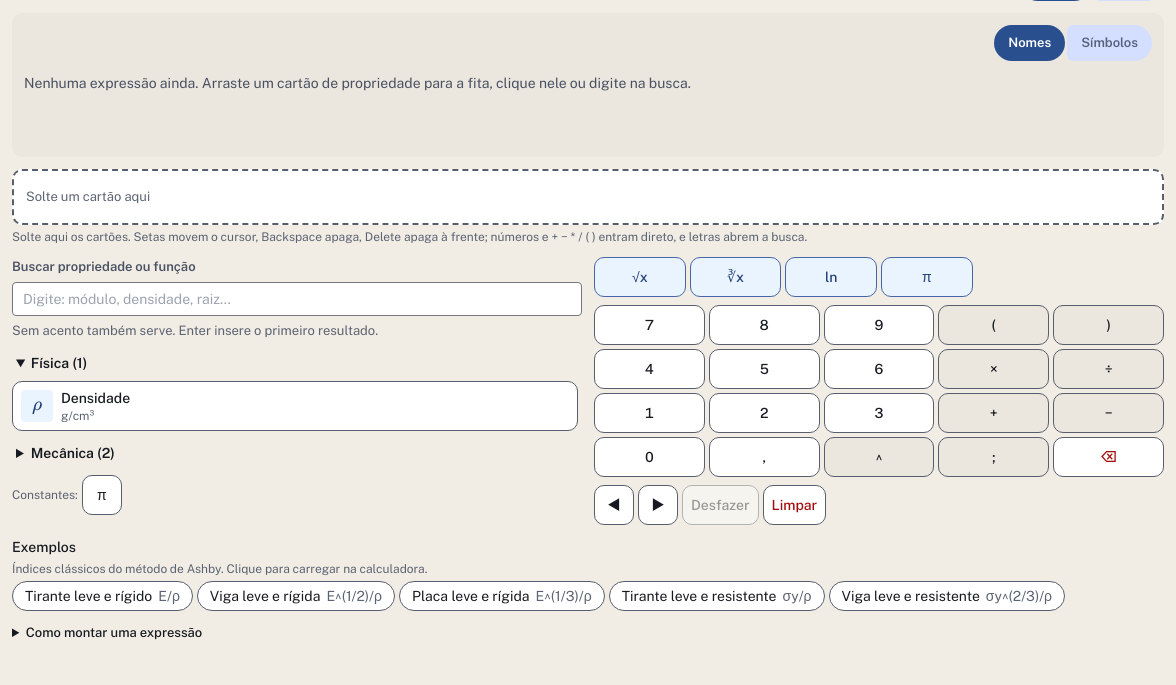
Scenario: ExpressionBuilder: calculadora visual (D-191) › a busca ignora acento e o Enter insere o primeiro cartão
In the search field labelled "Buscar propriedade ou função": (297, 298) [12,282,582,316], type "modulo"
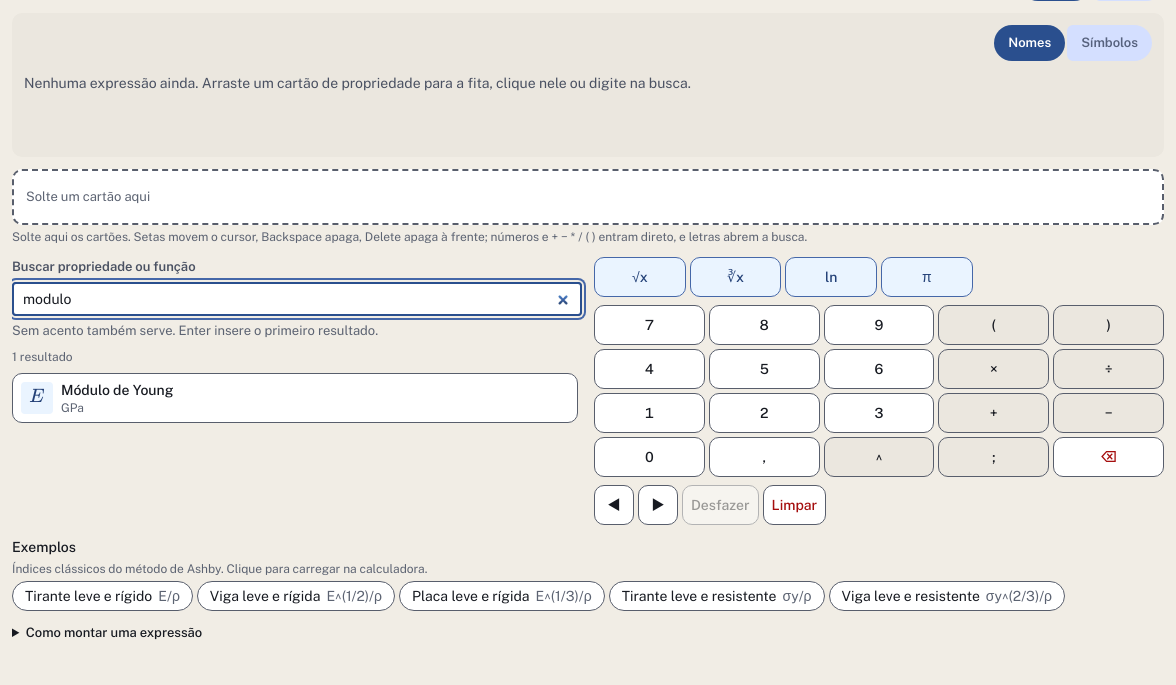
Expected: the text "1 resultado" is shown, [12,350,73,364]
Press Enter
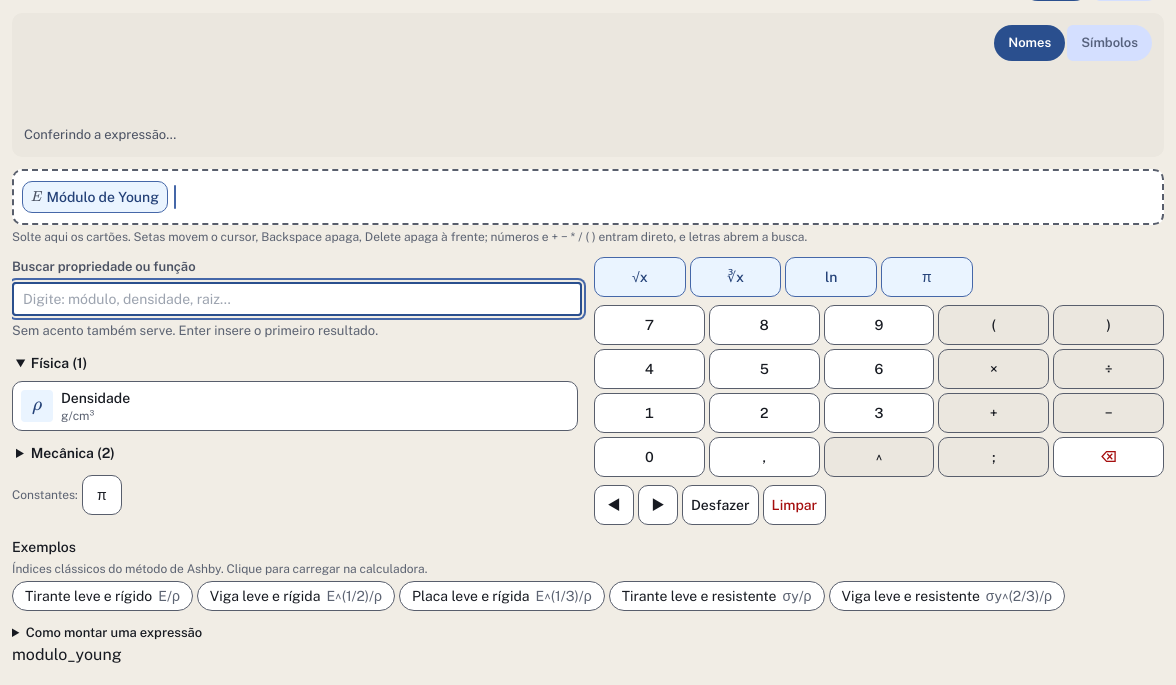
Expected: the text with test id "grammar" reads "modulo_young", [12,645,122,664]
Expected: the search field labelled "Buscar propriedade ou função" is empty
In the search field labelled "Buscar propriedade ou função": (297, 298) [12,282,582,316], type "raiz"
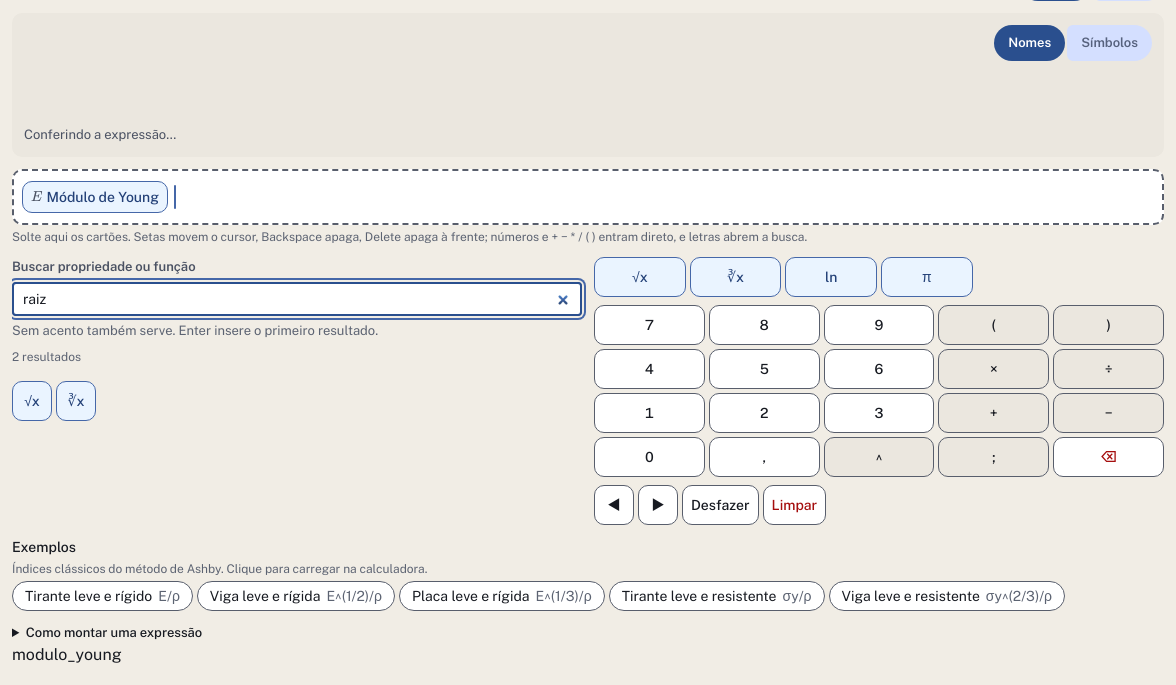
Press Enter
(page scrolled)
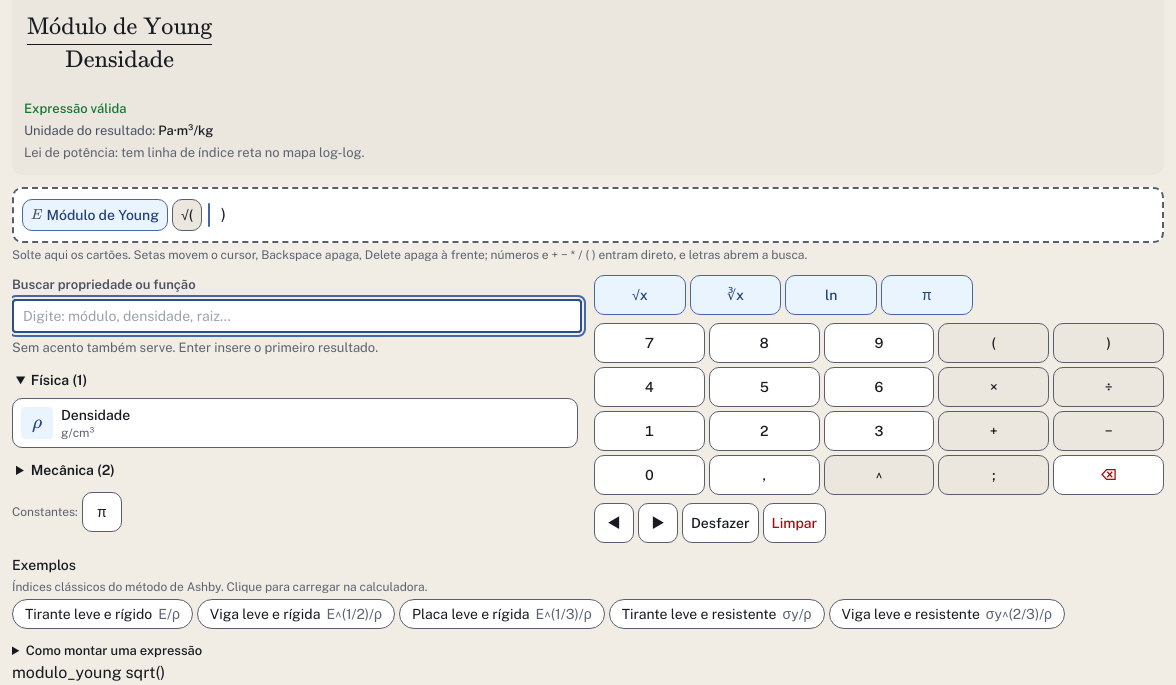
Expected: the text with test id "grammar" reads "modulo_young sqrt()", [12,663,165,682]
